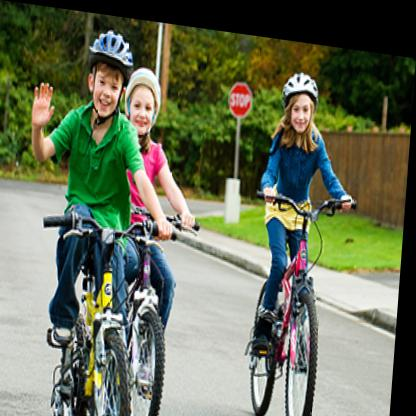With Helmet: (83, 21, 133, 116), (275, 58, 322, 126)
